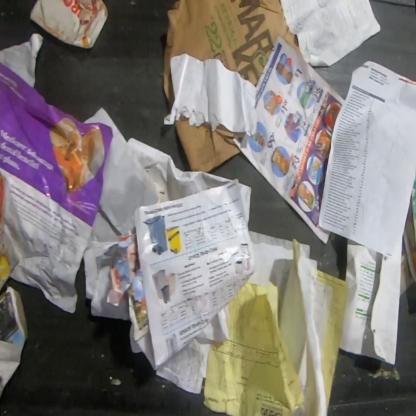cardboard: (163, 0, 301, 111), (174, 115, 244, 174), (31, 0, 109, 48)
